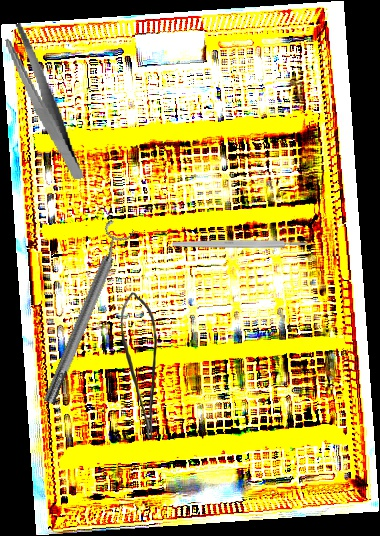Dressing Forceps: (3, 17, 84, 187)
Fixation Ring: (33, 219, 137, 408)
Micro Scissor: (119, 292, 158, 439)
Scalpel Handle: (172, 240, 309, 248)
